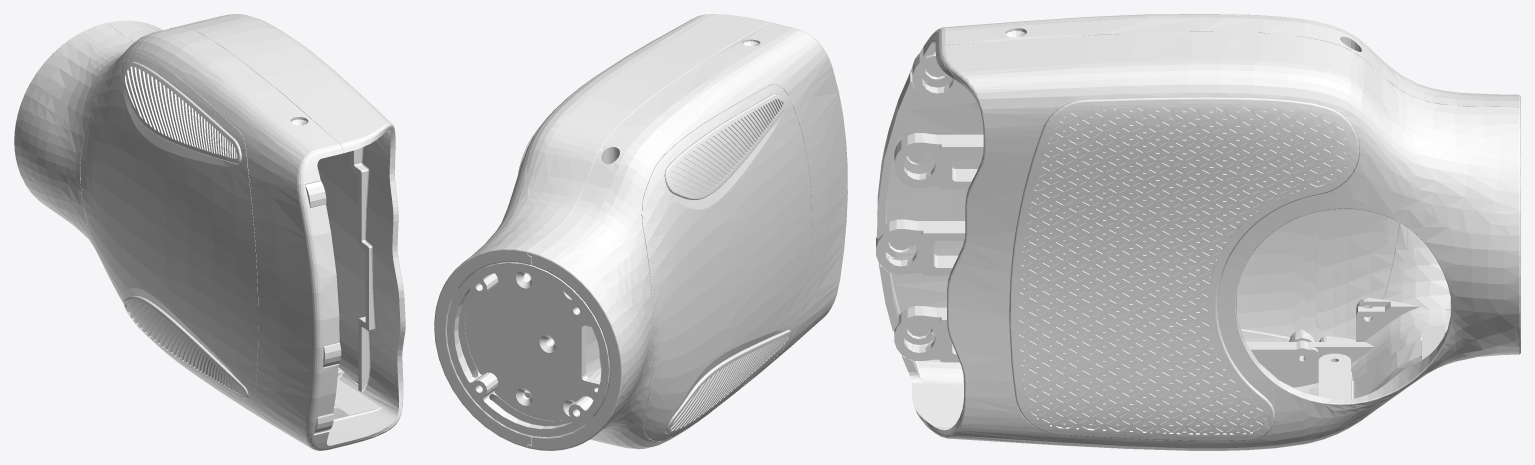
Rendered from lh_hand_base_link_vis.obj.
3 renders of one model, left to right at view 1: azimuth 30°, elevation 25°; view 2: azimuth 150°, elevation 25°; view 3: azimuth 270°, elevation 25°, orthographic. The views are drawn at different scales.
Parts seen in each view (by area): view 1: lh_hand_base_link; view 2: lh_hand_base_link; view 3: lh_hand_base_link.
Part boxes in pixels (box(x1,y1,x2,y2)): lh_hand_base_link: box(14, 14, 405, 450); lh_hand_base_link: box(434, 14, 847, 450); lh_hand_base_link: box(876, 14, 1520, 450).
Bounding box in the file's own units: 0.064 × 0.1049 × 0.1588.
Materials: 1 (1 with a texture image).
